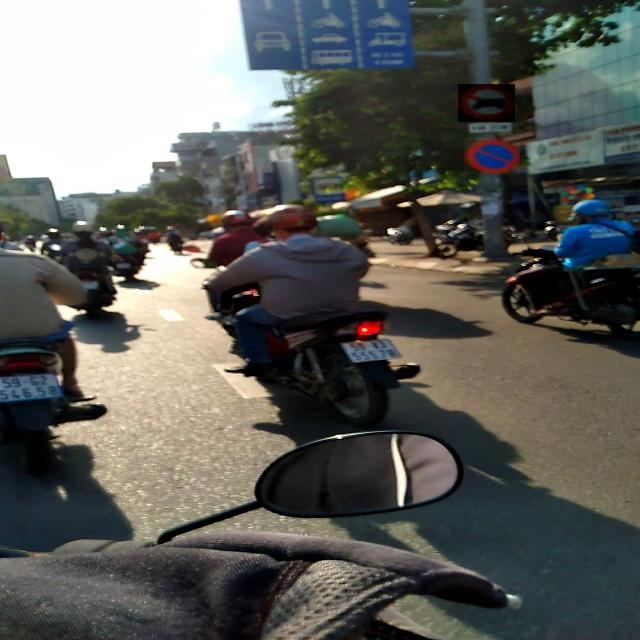bien_chi_dan: (458, 84, 515, 122), (464, 138, 520, 174)
